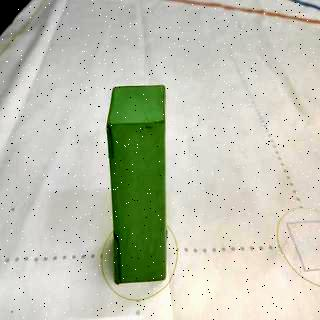greenbox: (105, 83, 168, 284)
